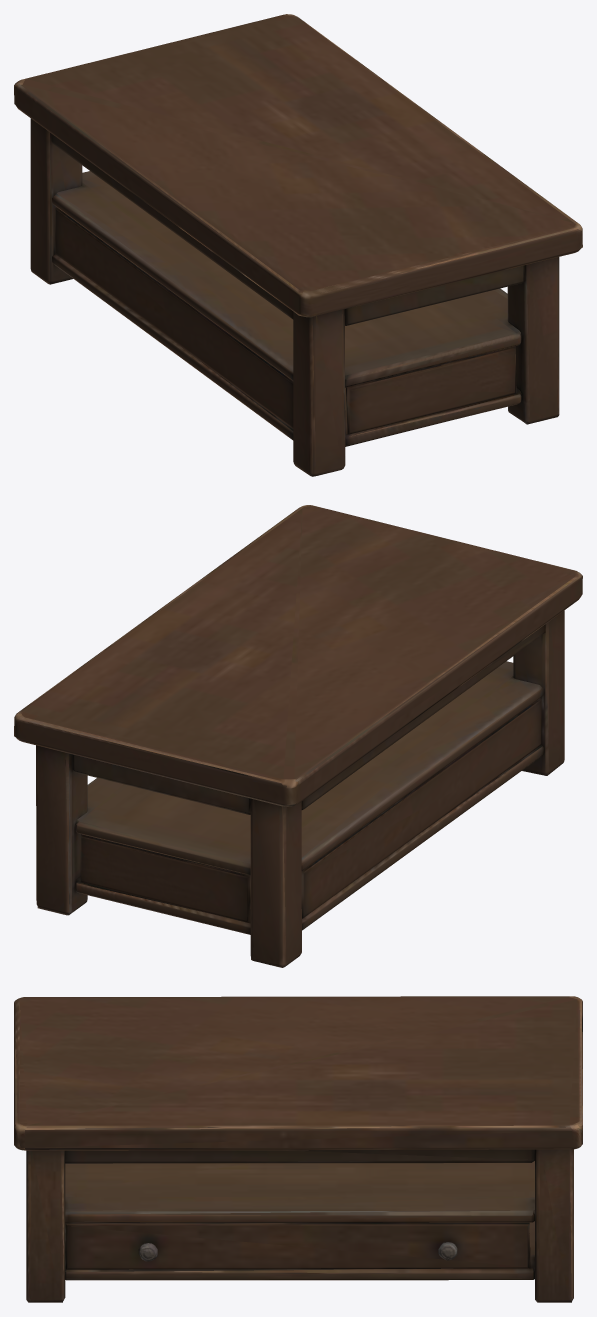
The model's file is coffeeTable.glb.
3 renders of one model, top to bottom at view 1: azimuth 30°, elevation 25°; view 2: azimuth 150°, elevation 25°; view 3: azimuth 270°, elevation 25°, orthographic. The views are drawn at different scales.
Parts seen in each view (by area): view 1: tripo_node_b6c7beea-cb2d-4df3-b0cd-778149b336a7; view 2: tripo_node_b6c7beea-cb2d-4df3-b0cd-778149b336a7; view 3: tripo_node_b6c7beea-cb2d-4df3-b0cd-778149b336a7.
Part boxes in pixels (left/top/right/bottom): tripo_node_b6c7beea-cb2d-4df3-b0cd-778149b336a7: left=14, top=14, right=582, bottom=476; tripo_node_b6c7beea-cb2d-4df3-b0cd-778149b336a7: left=14, top=505, right=582, bottom=967; tripo_node_b6c7beea-cb2d-4df3-b0cd-778149b336a7: left=14, top=996, right=582, bottom=1302.
Bounding box in the file's own units: 0.5527 × 0.3613 × 0.998.
1 material, 1 textured.
